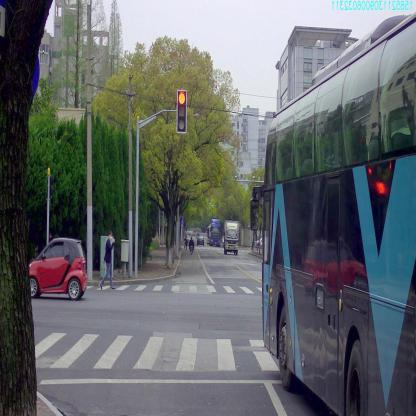traffic-light: (177, 90, 187, 132)
